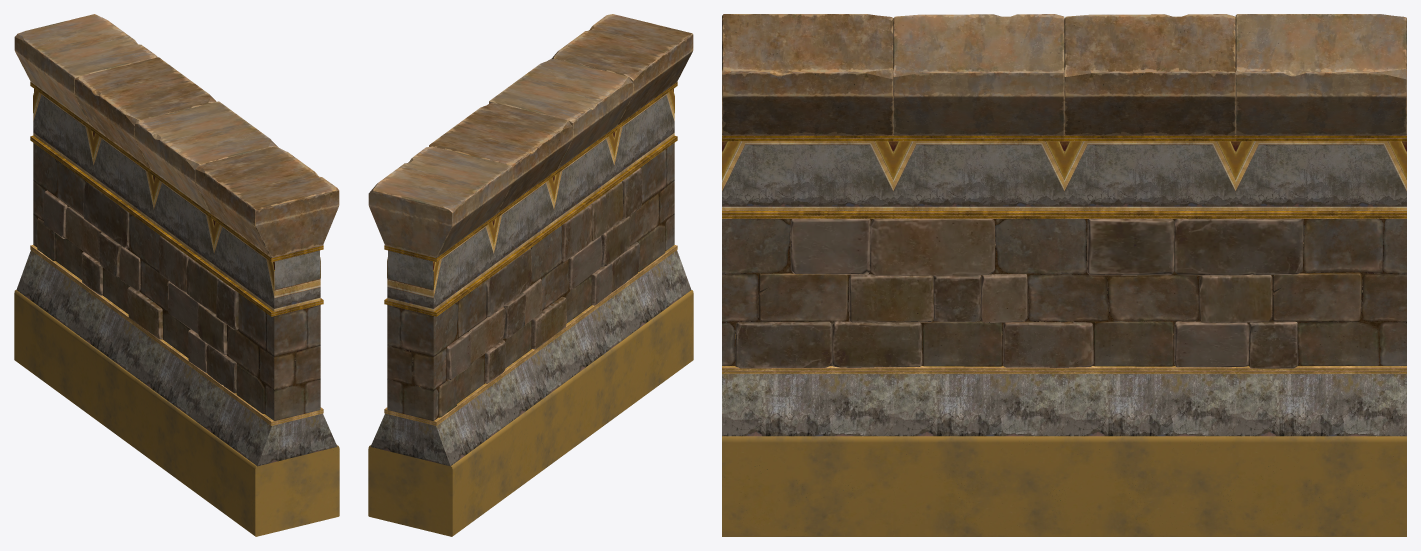
3 renders of one model, left to right at view 1: azimuth 30°, elevation 25°; view 2: azimuth 150°, elevation 25°; view 3: azimuth 270°, elevation 25°, orthographic. The views are drawn at different scales.
Parts seen in each view (by area): view 1: SM_DK_10m_Wall_03_LOD0; view 2: SM_DK_10m_Wall_03_LOD0; view 3: SM_DK_10m_Wall_03_LOD0.
Part boxes in pixels (<box>): SM_DK_10m_Wall_03_LOD0: <box>14,14,339,536</box>; SM_DK_10m_Wall_03_LOD0: <box>368,14,693,536</box>; SM_DK_10m_Wall_03_LOD0: <box>722,14,1406,536</box>.
Bounding box in the file's own units: 3.24 × 12 × 16.
6 materials, 6 textured.
